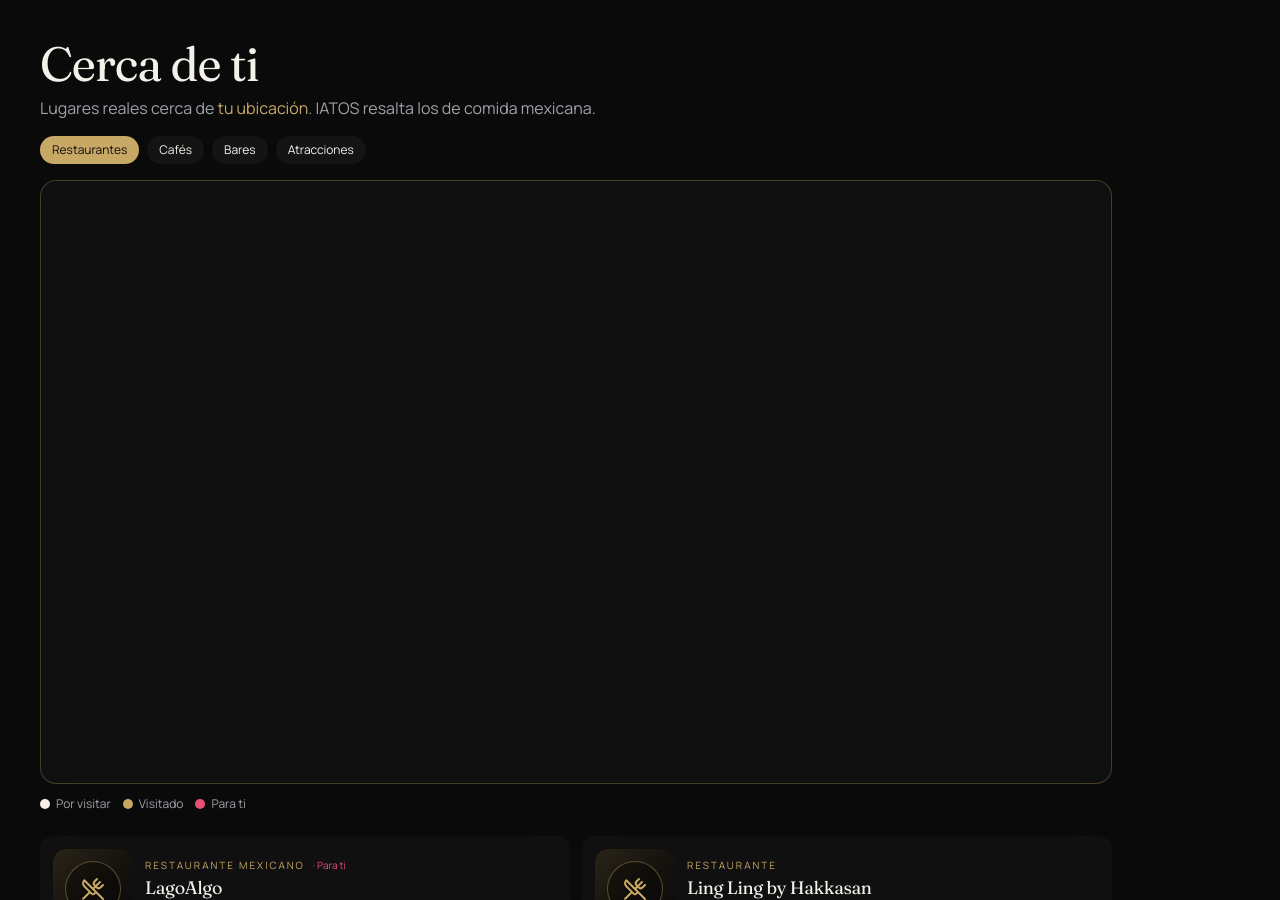
Test: pantalla Cercanos › sin foto: ilustración de la categoría con su leyenda, nunca un bloque vacío ni una foto ajena
This screenshot has width=1280, height=900.
Click the text "LagoAlgo": (184, 888) [145, 876, 222, 899]
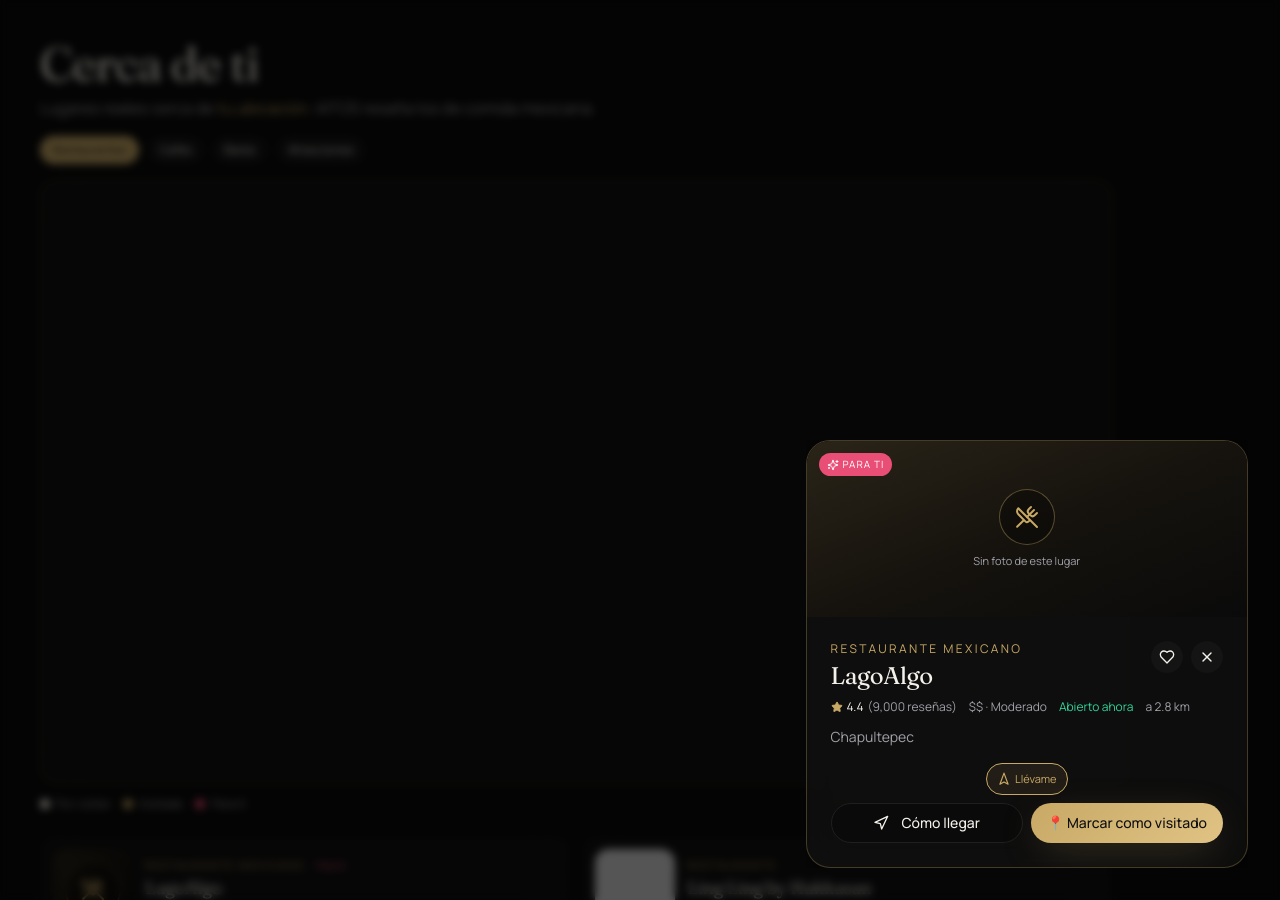
Expected: the element with test id "place-illustration" is shown, [806, 441, 1247, 617]
Expected: the text "Sin foto de este lugar" is shown, [973, 553, 1080, 569]
